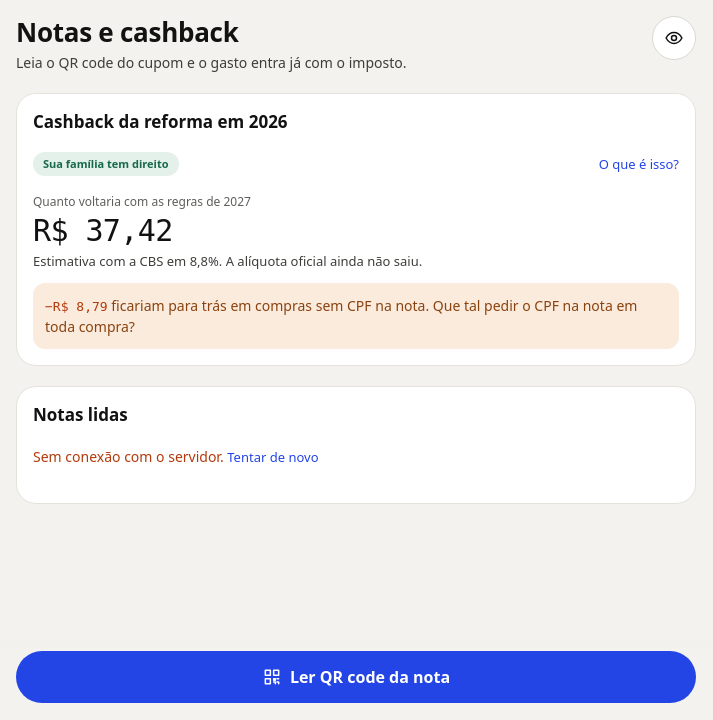
Test case: Impostômetro anual › erro de rede aparece com opção de tentar de novo
Click the button "Tentar de novo".
click(273, 457)  # box x1=227 y1=439 x2=318 y2=475
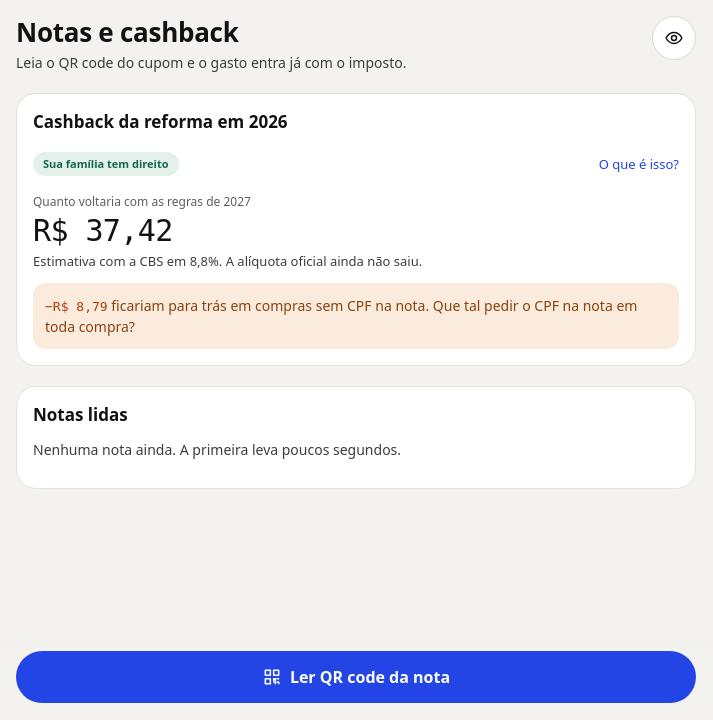
Now the text "Nenhuma nota ainda. A primeira leva poucos segundos." is shown, box x1=33 y1=440 x2=401 y2=459
